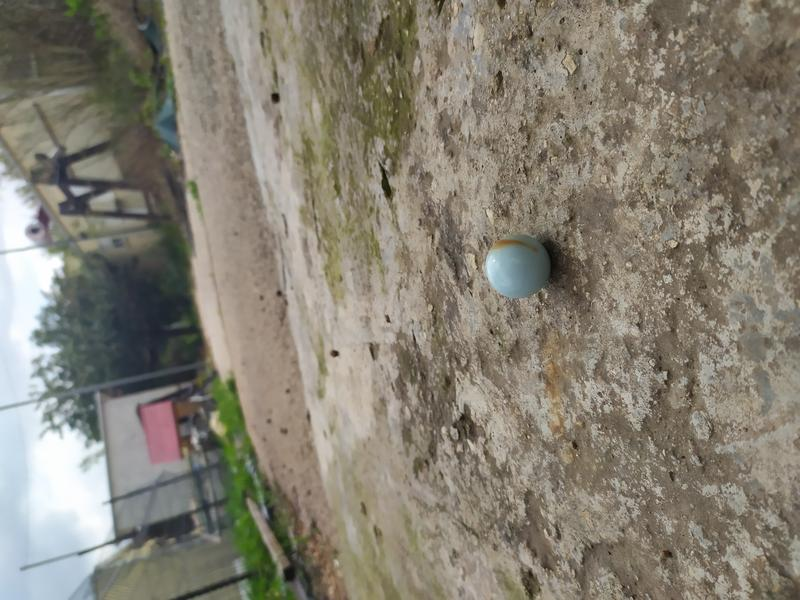Warning: (483, 232, 553, 301)
